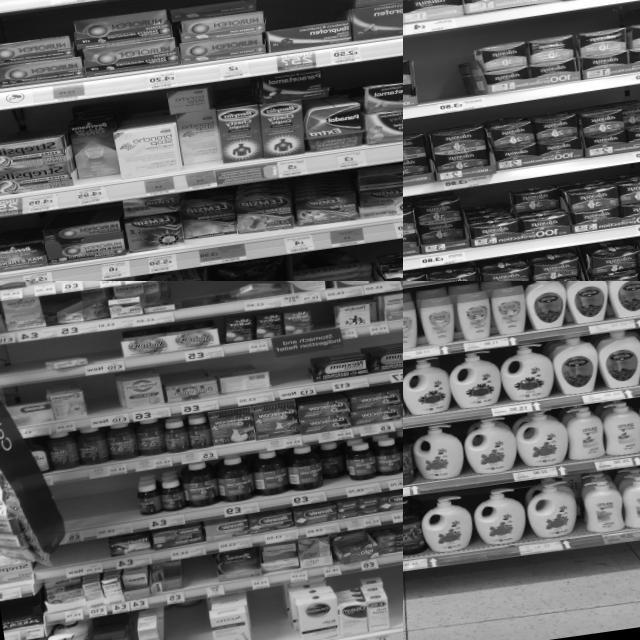Imprecise: (258, 74, 336, 152), (170, 2, 266, 55), (321, 438, 349, 488)
